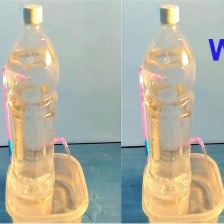bottle: (0, 2, 62, 221), (138, 2, 193, 219)
